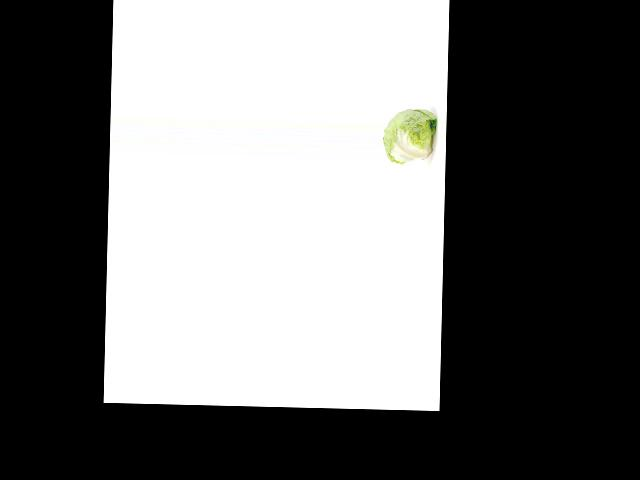lettuce: (382, 107, 439, 166)
